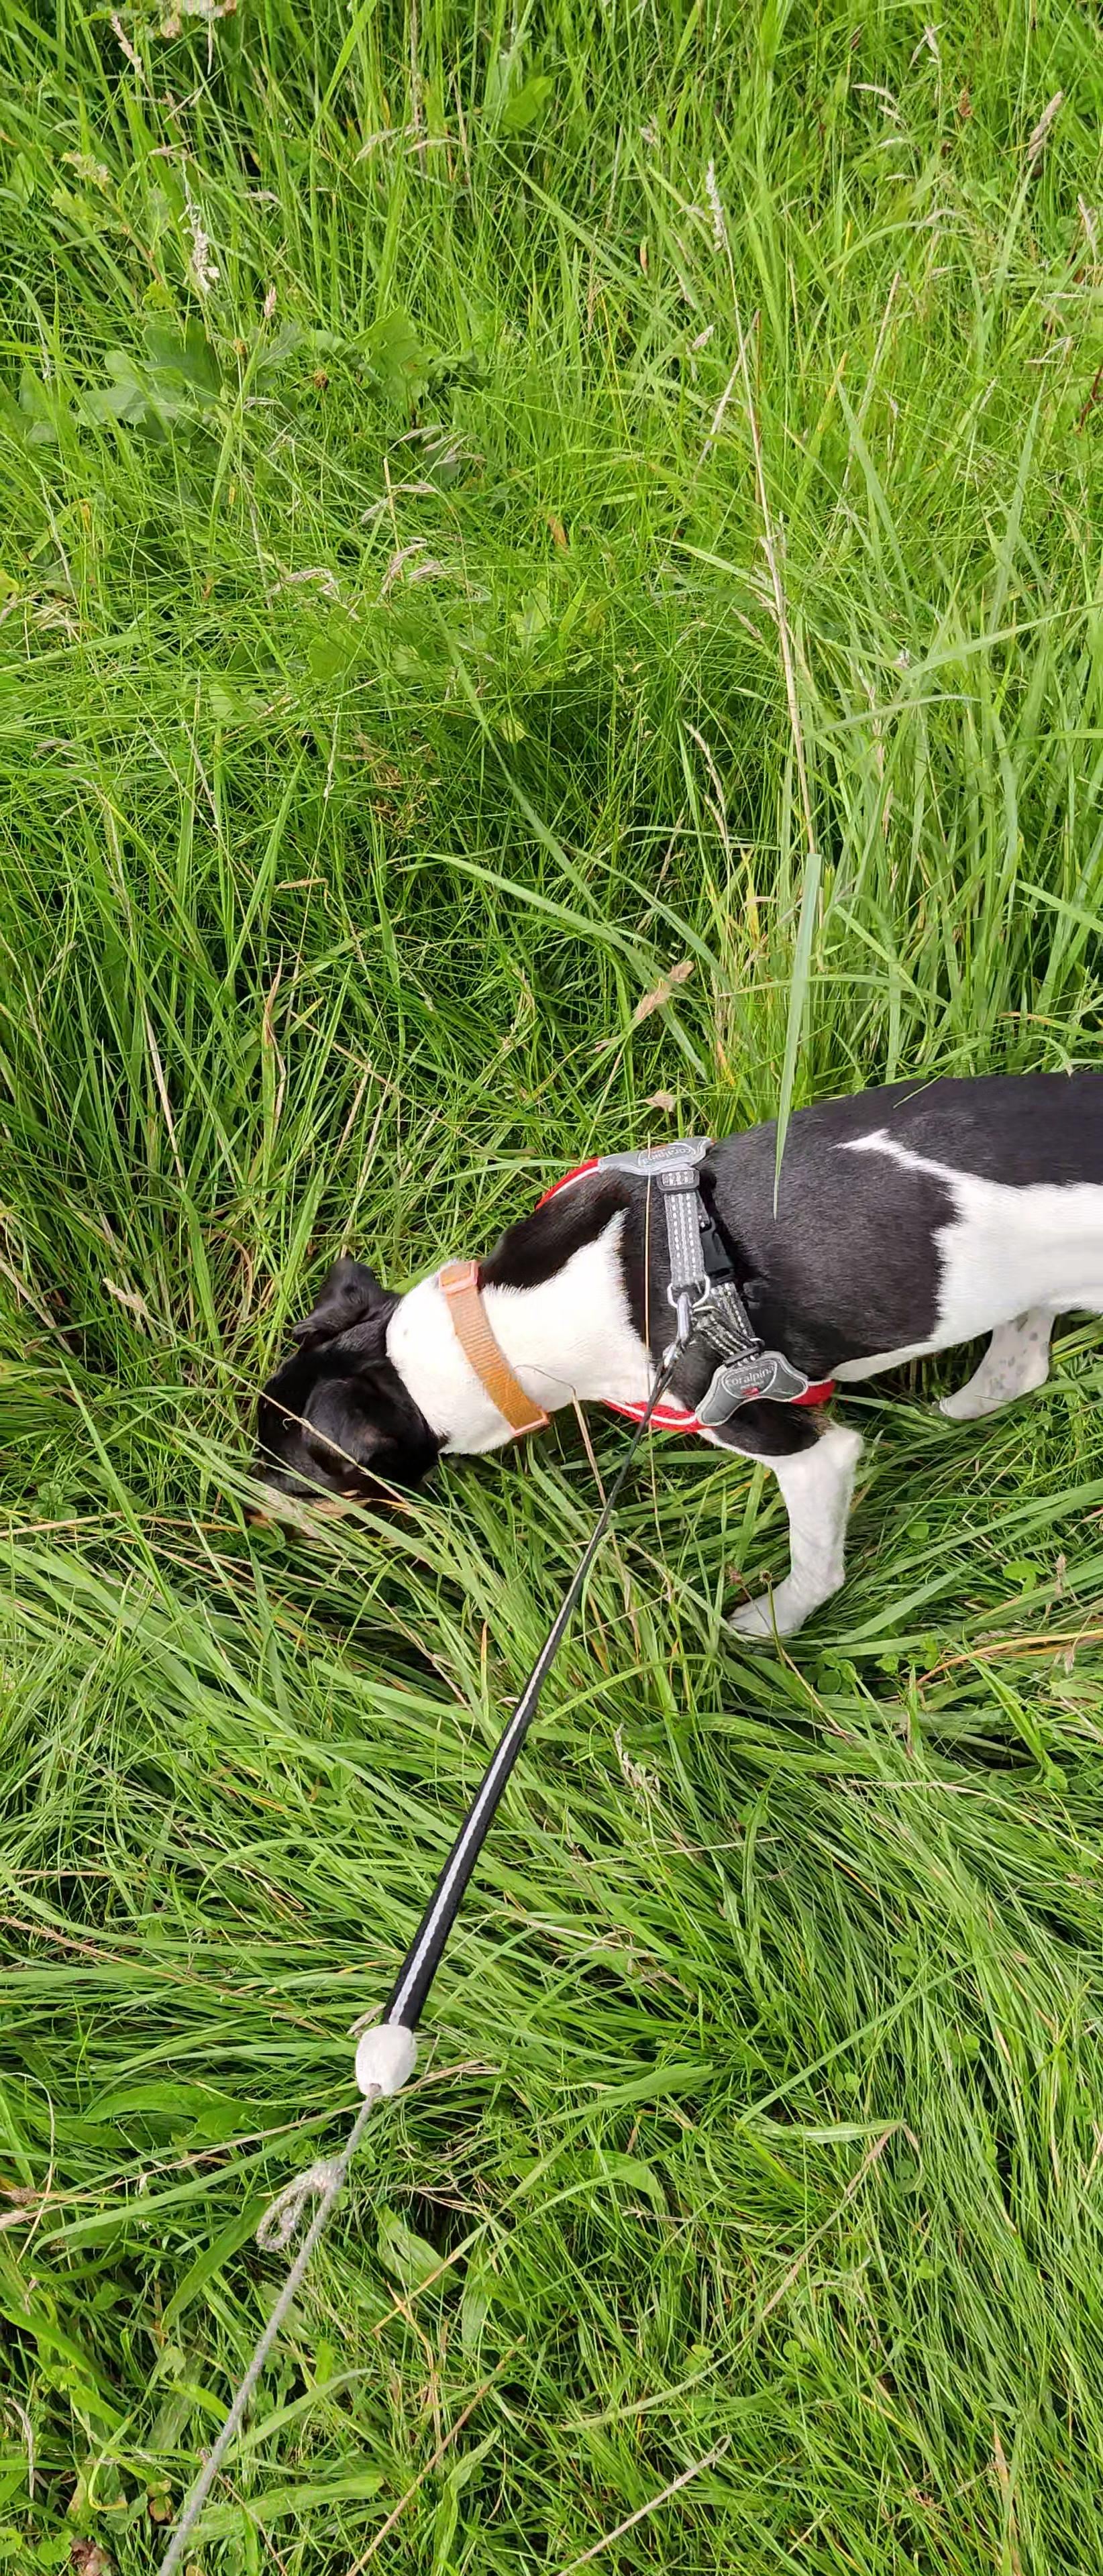Dog: (224, 1065, 1103, 1646)
